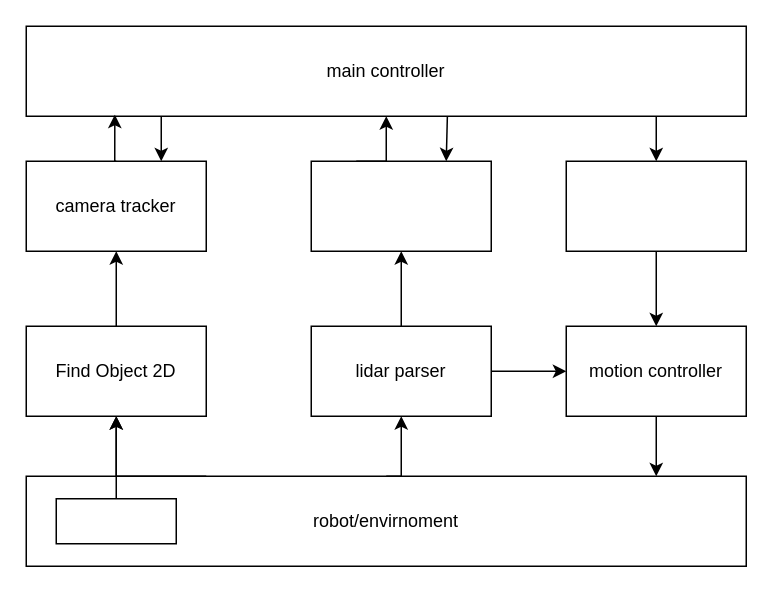
Image size: 773x593. Some labels were removed from this diagram. The shapes that lost their labels are listed below. From the top down, each one's centre as x and y in pixels, then its label:
the point at 400,205: lidar tracker
the point at 655,205: navigator
the point at 115,520: best effort repeater
